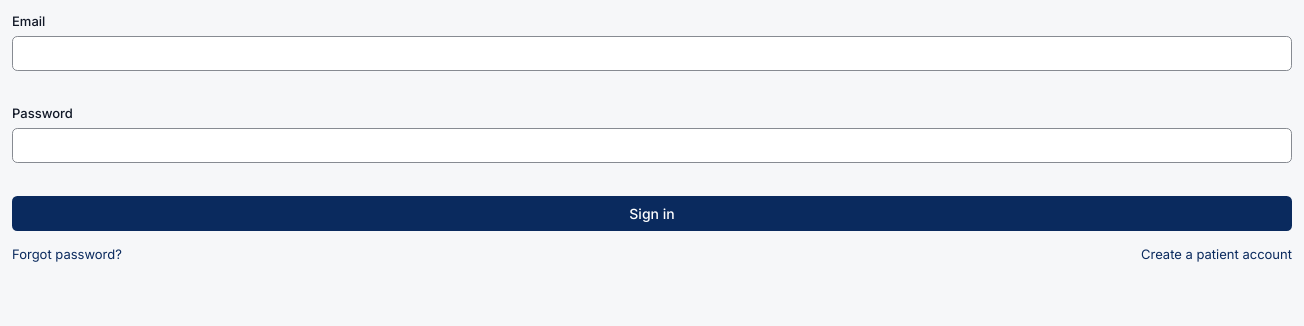
Test: LoginForm › explains rate limiting in plain language
Type "asha@example.com" into the field labelled "Email". click: (652, 53)
box: [12,36,1292,71]
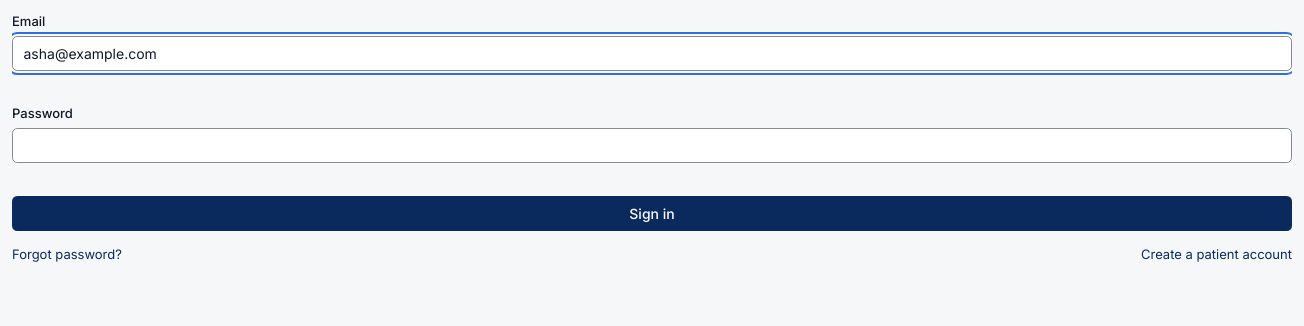
Type "secret123" into the password field labelled "Password". click: (652, 145)
box: [12,128,1292,163]
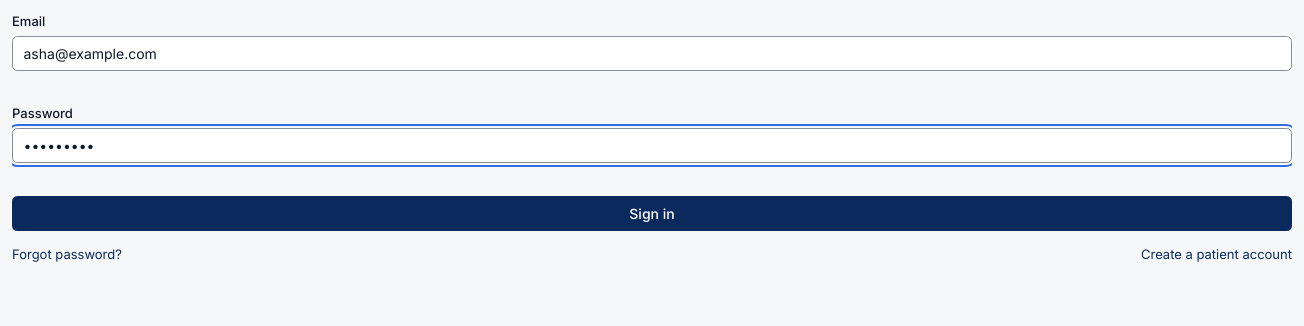
Click the button "Sign in". click: click(652, 214)
box: [12,196,1292,231]
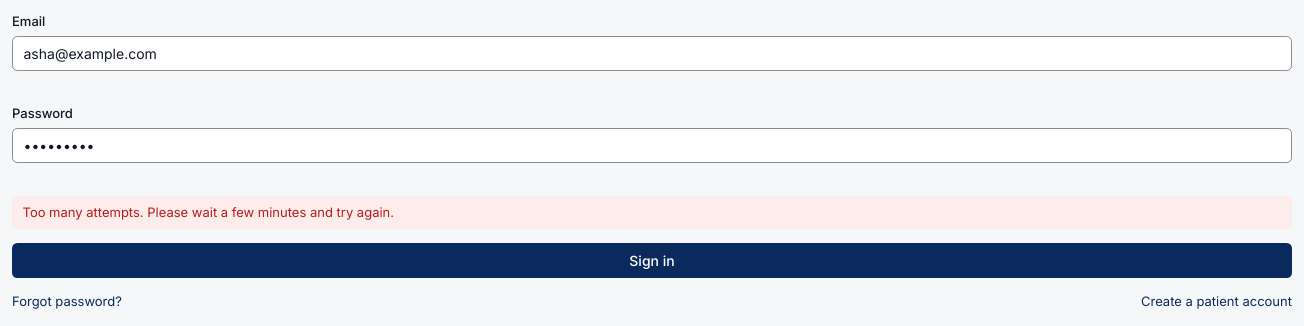
Check: the message shows "Too many attempts", box [22,204,394,220]
